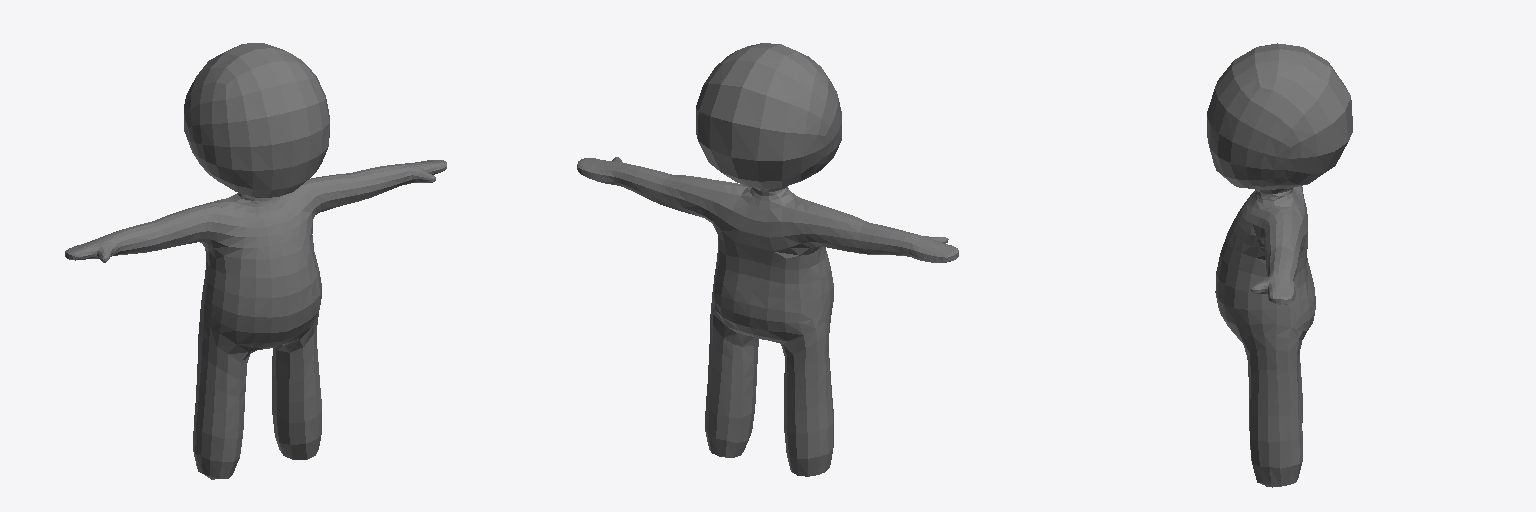
Rendered from Obj_PlayerBody_00.obj.
3 renders of one model, left to right at view 1: azimuth 30°, elevation 25°; view 2: azimuth 150°, elevation 25°; view 3: azimuth 270°, elevation 25°, orthographic.
Parts seen in each view (by area): view 1: Character_Body_Low; view 2: Character_Body_Low; view 3: Character_Body_Low.
Boxes of the visible parts, <box> form: Character_Body_Low: <box>65,43,446,479</box>; Character_Body_Low: <box>577,43,958,476</box>; Character_Body_Low: <box>1207,43,1352,487</box>.
Size of the model in its own units: 182 by 190 by 61.03.